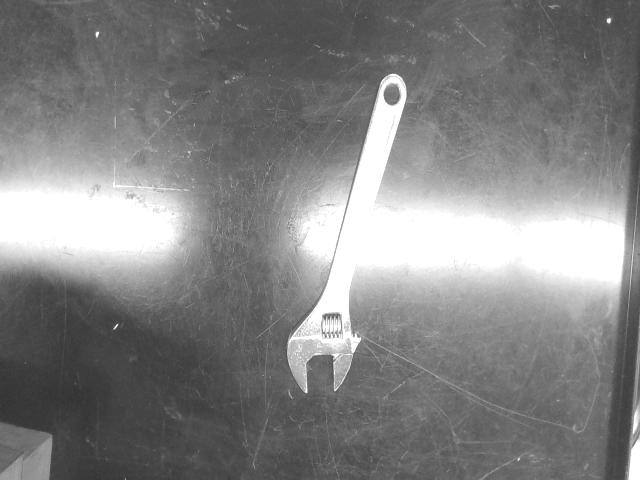Adjustable spanner: (289, 73, 406, 393)
